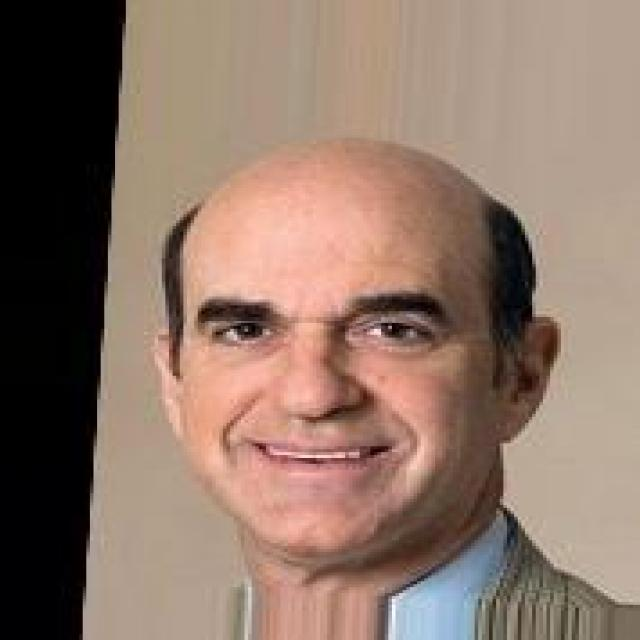nomask: (112, 127, 582, 572)
